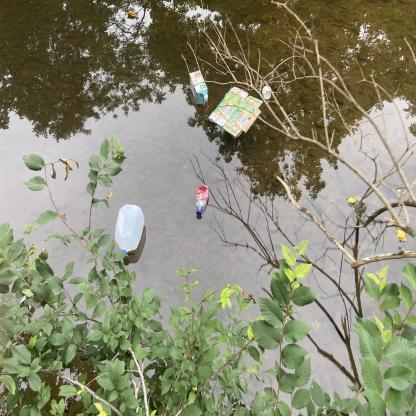trash: (206, 84, 264, 141), (112, 202, 146, 260), (187, 68, 209, 106), (194, 182, 210, 218), (260, 84, 272, 100)
